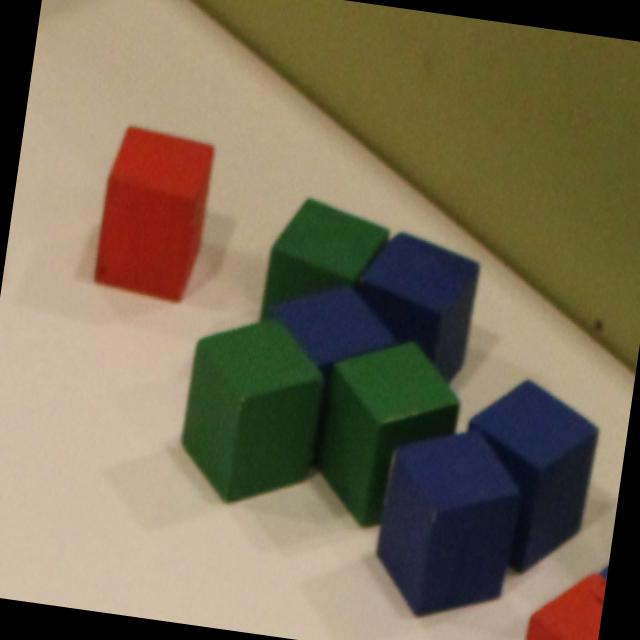bluecube: (377, 428, 523, 623), (476, 379, 600, 567), (353, 231, 481, 386), (277, 287, 392, 375)
green cube: (177, 314, 326, 501), (314, 342, 458, 530), (261, 193, 395, 317)
red cube: (100, 120, 218, 305), (525, 570, 606, 640)
